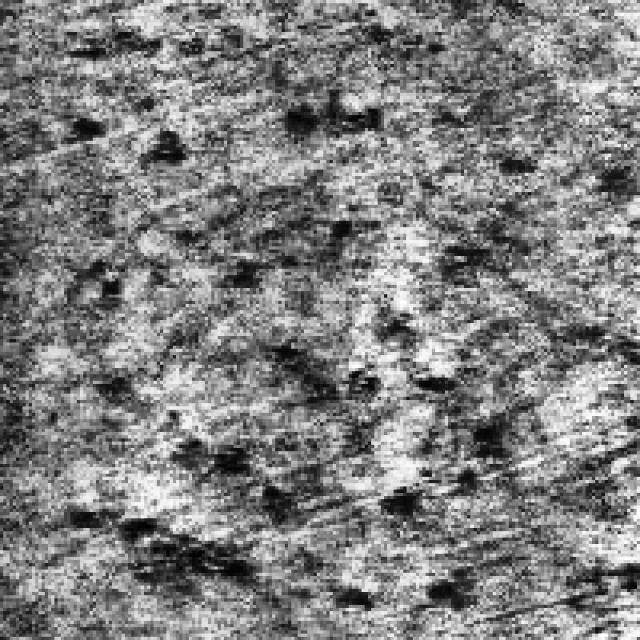Crazing: (58, 396, 416, 612)
